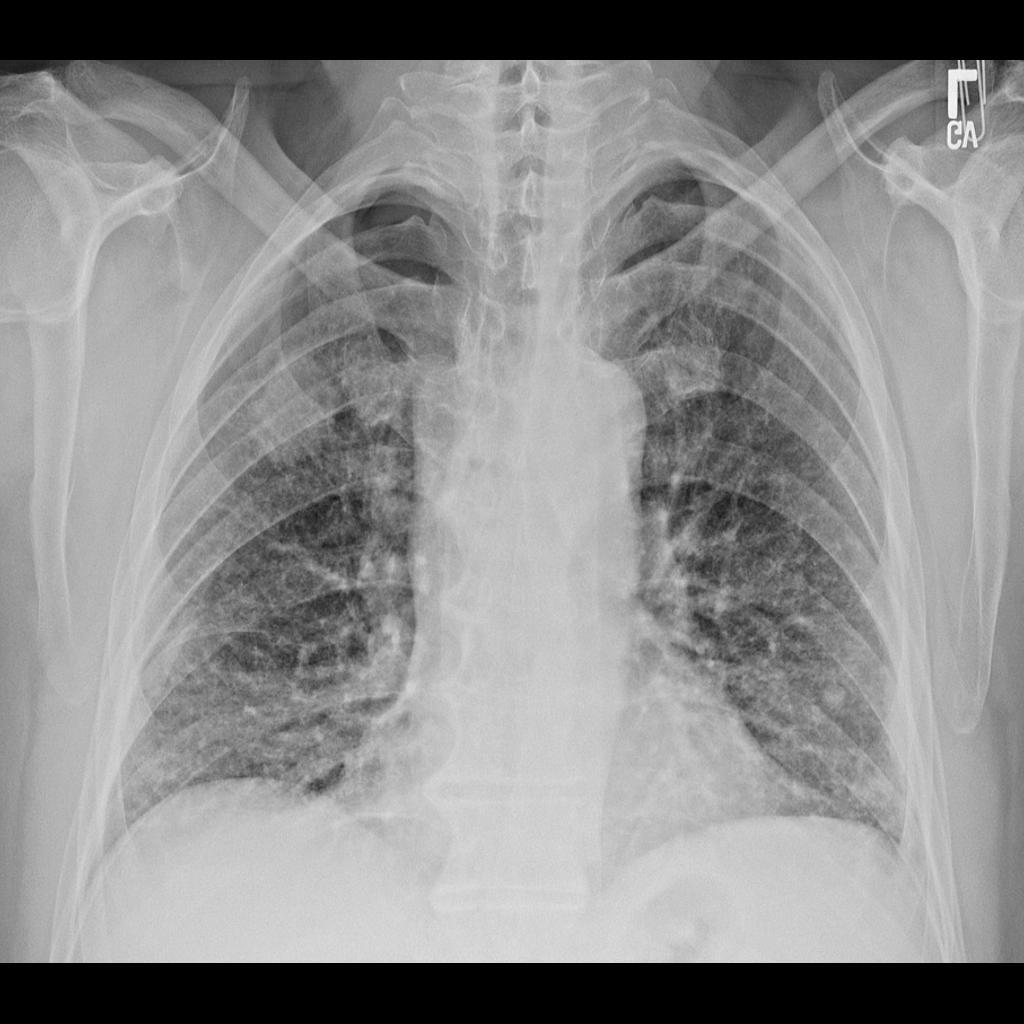Nodule: (251, 352, 337, 466), (828, 686, 846, 709)
